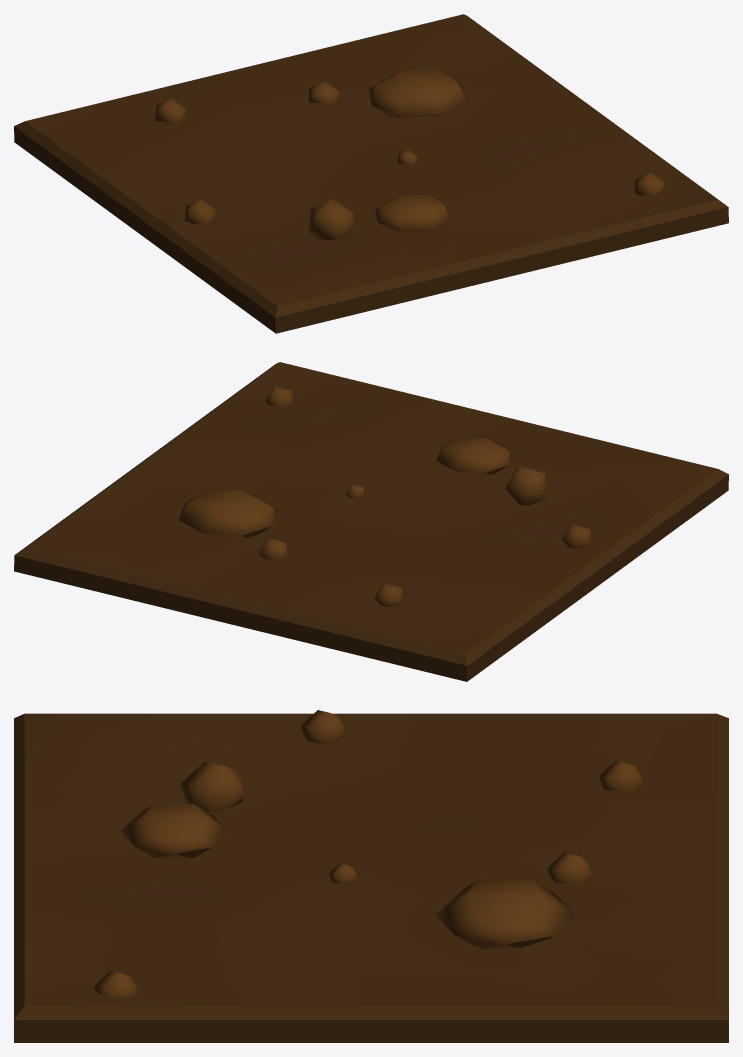
File: dirt1.fbx
3 renders of one model, top to bottom at view 1: azimuth 30°, elevation 25°; view 2: azimuth 150°, elevation 25°; view 3: azimuth 270°, elevation 25°, orthographic. The views are drawn at different scales.
Visible parts, largest first — view 1: Sphere.003; view 2: Sphere.003; view 3: Sphere.003.
Part boxes in pixels (x1=…): Sphere.003: x1=14, y1=14, x2=728, y2=333; Sphere.003: x1=14, y1=362, x2=728, y2=681; Sphere.003: x1=14, y1=710, x2=728, y2=1042.
Bounding box in the file's own units: 1.05 × 0.106 × 1.05.
